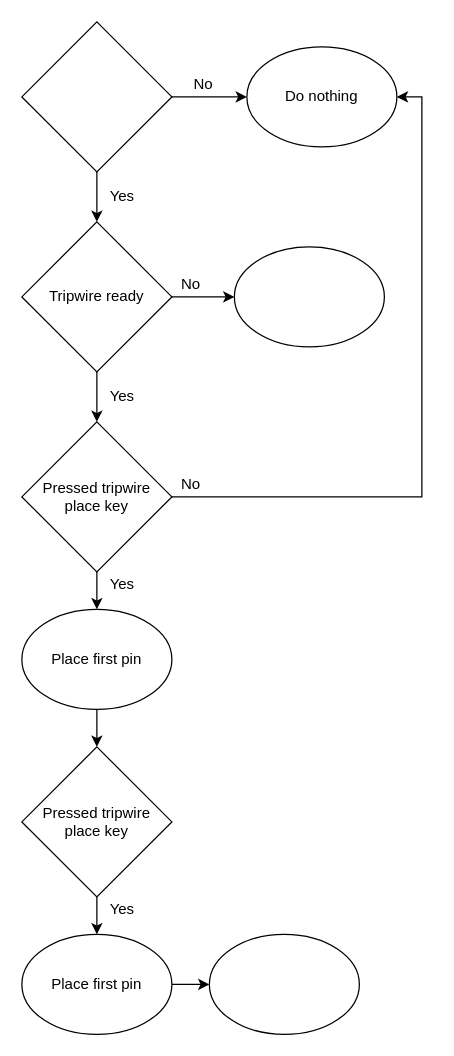
The diagram is 454 pixels wide and 1056 high, and some of its shapes have lost their labels. The centre of each missing label's shape, as x and y in pixels:
"Generate rope between 2 pins" belongs at [283,983].
"Playing as mole" belongs at [96,96].
"Wait for tripwire cooldown" belongs at [308,296].
